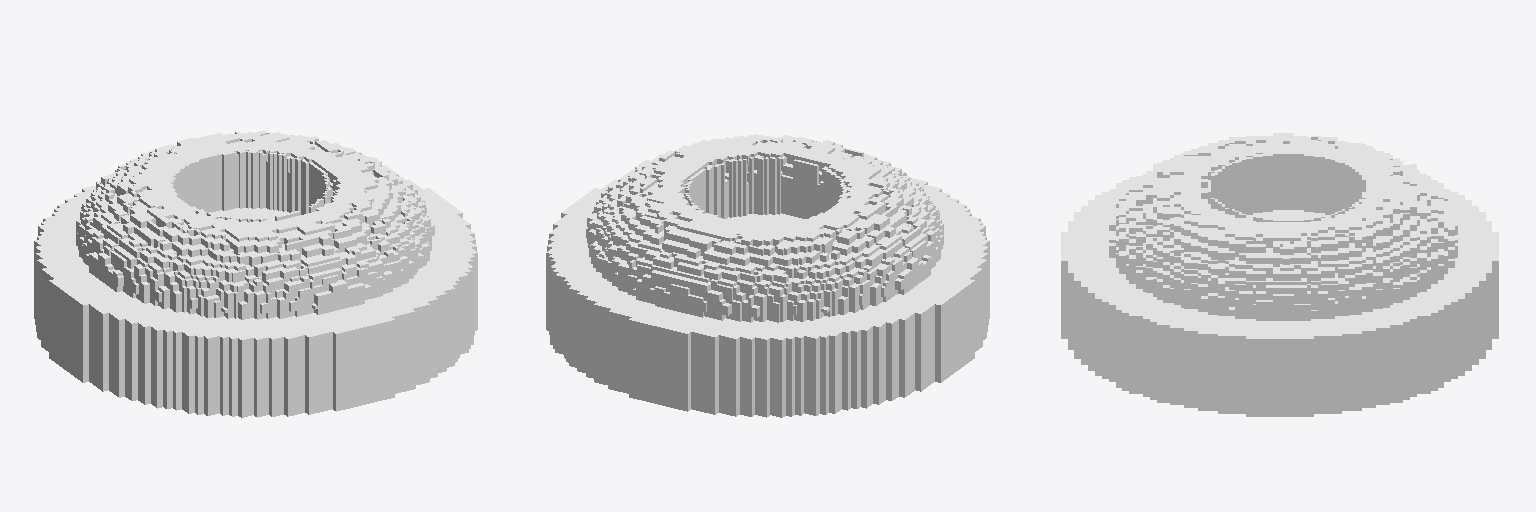
File: StoneRocketLauncher-0-0.obj
3 views of the same model, side by side, from view 1: azimuth 30°, elevation 25°; view 2: azimuth 150°, elevation 25°; view 3: azimuth 270°, elevation 25° (orthographic).
Parts seen in each view (by area): view 1: 0; view 2: 0; view 3: 0.
Part boxes in pixels (x1,y1,x2,y2): 0: (34, 130, 477, 417); 0: (546, 134, 989, 417); 0: (1061, 133, 1498, 416).
Bounding box in the file's own units: 12.8 × 4.4 × 12.8.